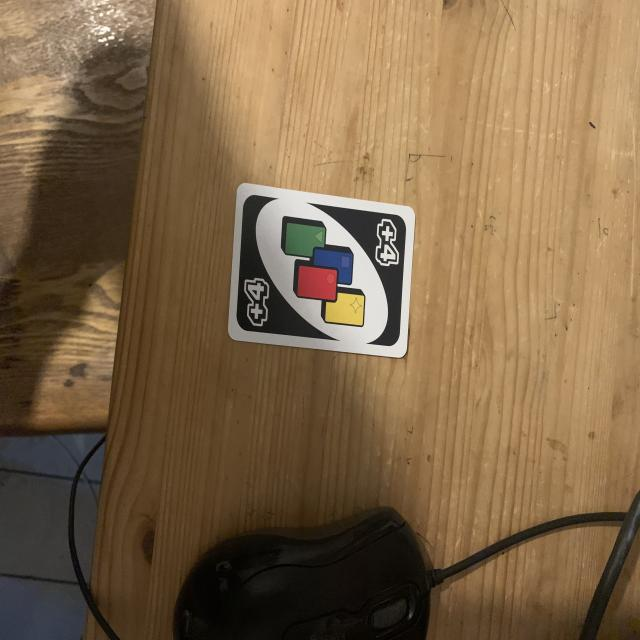lcolor-400: (364, 212, 410, 279)
